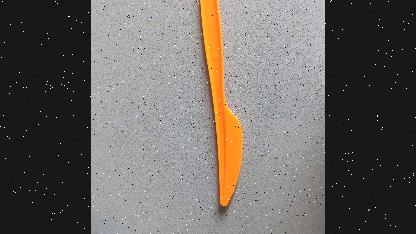Others: (197, 0, 245, 212)
